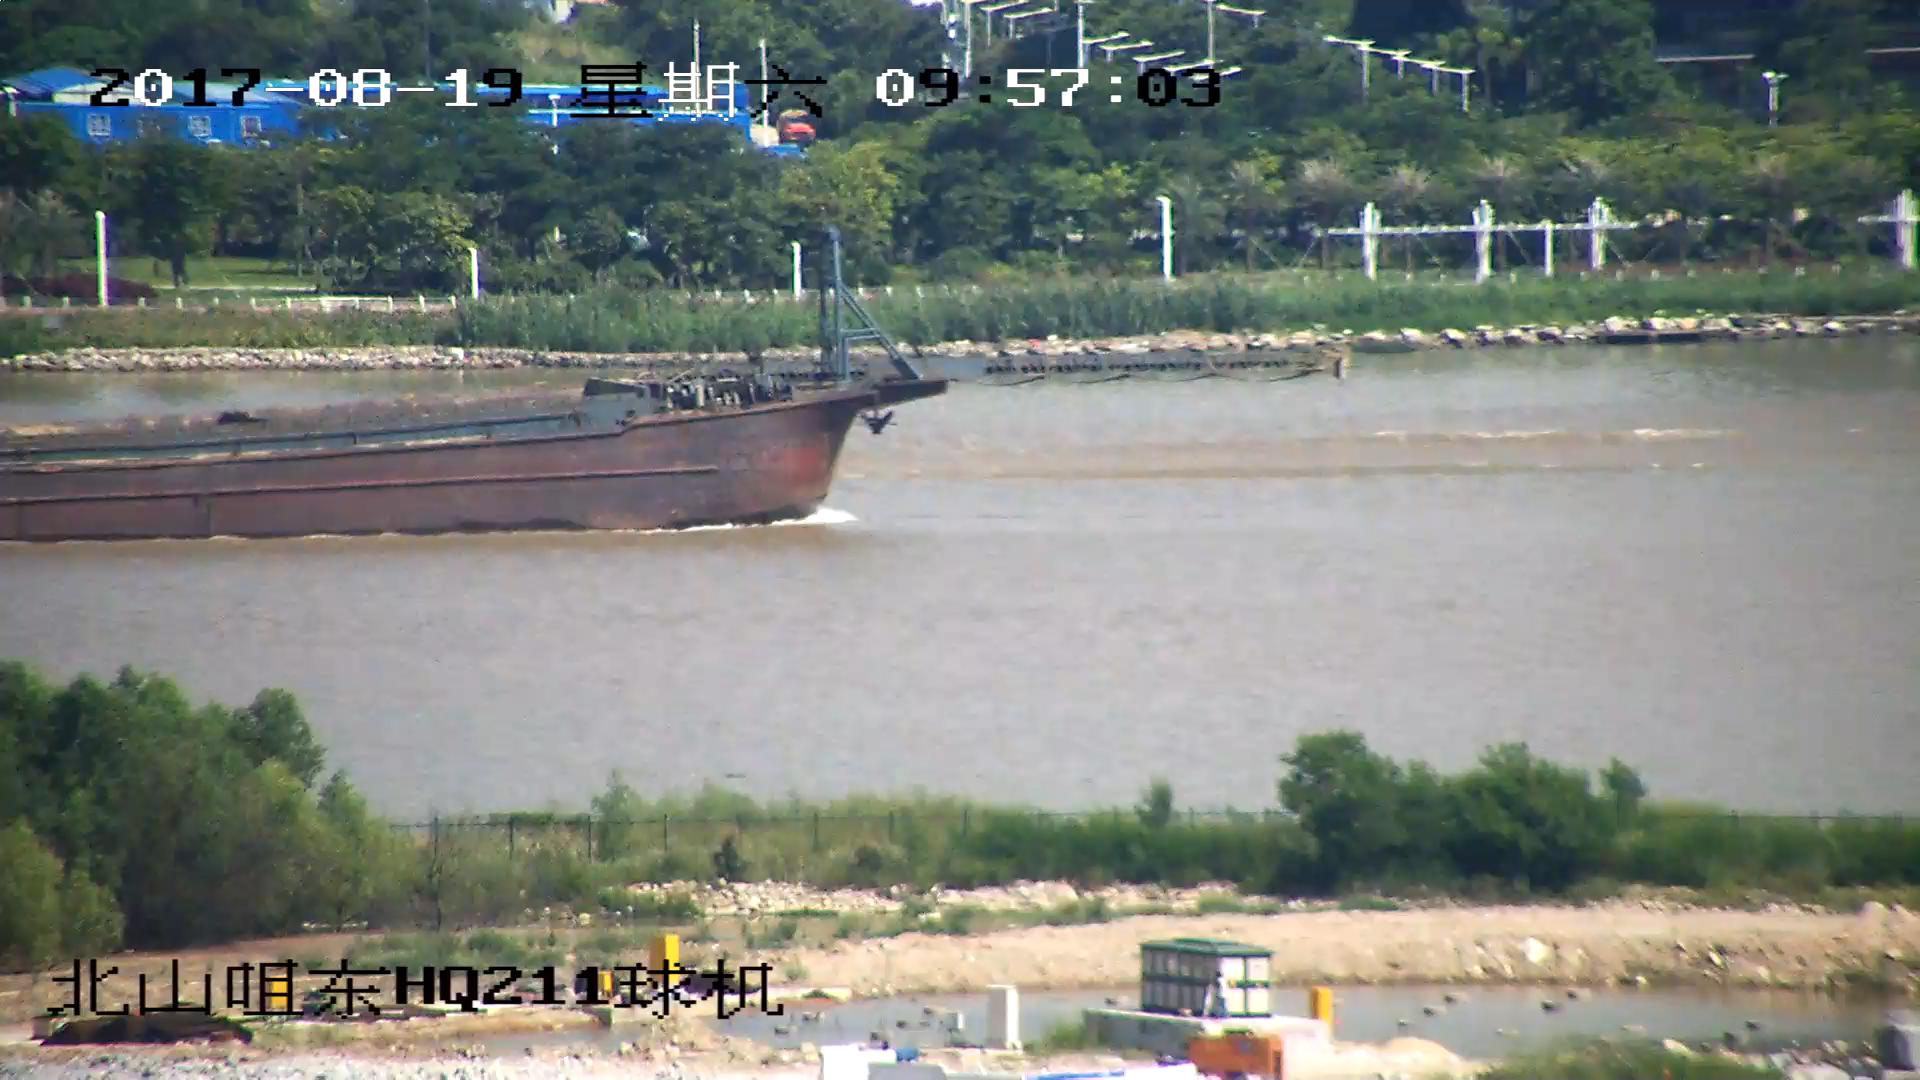bulk cargo carrier: (1, 234, 1297, 547)
